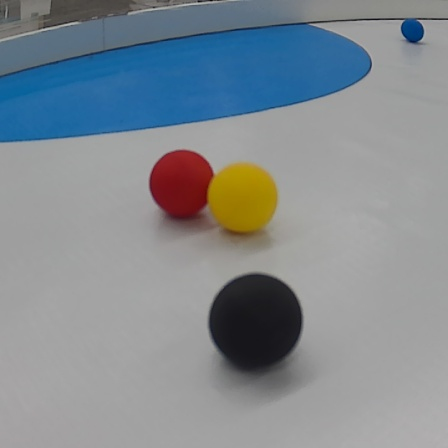black: (207, 273, 310, 374)
blue: (397, 16, 429, 46)
blue_base: (0, 21, 371, 143)
red: (147, 149, 215, 216)
yellow: (207, 161, 281, 238)
